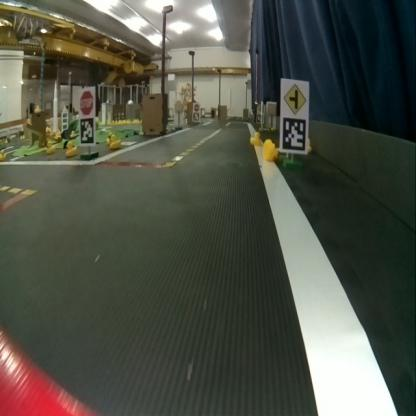Duckie: (263, 140, 276, 158), (66, 142, 76, 154), (45, 140, 54, 150), (109, 137, 118, 146), (250, 132, 260, 140), (105, 132, 112, 140), (0, 152, 6, 160)
Intersection sign: (281, 82, 305, 113)
QR code: (283, 116, 305, 152), (80, 119, 93, 141)
Stop sign: (79, 89, 94, 114)
